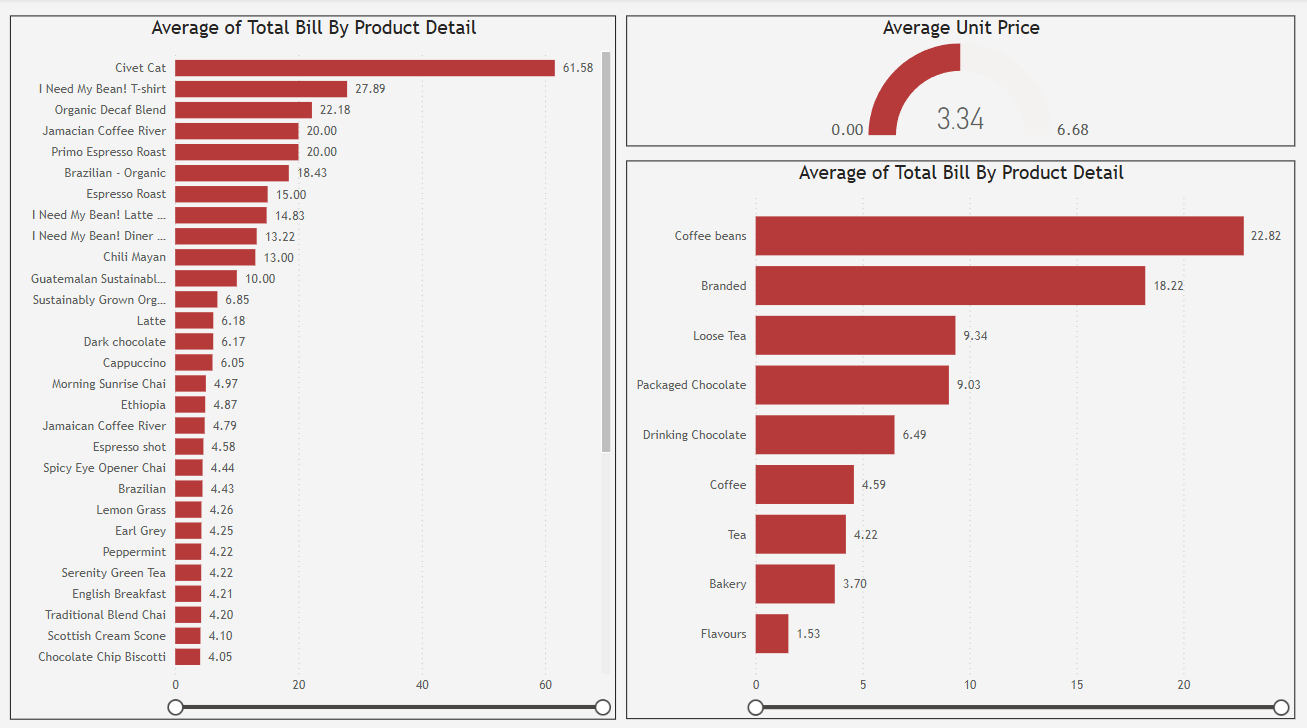

What the dashboard file says about the page in this screenshot:
{"tool":"powerbi","page":{"name":"Page 3","canvas":[1280,720],"ordinal":2},"visuals":[{"type":"clusteredBarChart","title":"Average of Total Bill By Product Detail","fields":{"Y":["Avg(Coffee Sales Data.Total_Bill)"],"Category":["Coffee Sales Data.product_detail"]},"box":[9.8,17.1,593.1,688.5],"z":0},{"type":"gauge","title":"Average Unit Price","fields":{"Y":["Avg(Coffee Sales Data.unit_price)"]},"box":[612.6,17.1,654.2,128.4],"z":1},{"type":"clusteredBarChart","title":"Average of Total Bill By Product Detail","fields":{"Y":["Avg(Coffee Sales Data.Total_Bill)"],"Category":["Coffee Sales Data.product_category"]},"box":[612.6,159,654.2,546.6],"z":2}]}

Visuals, with their boxes in screenshot pixels (x1, y1, x2, y2), scaled from the page's 1280x720 canvas onto the 1307x728 screenshot:
"Average of Total Bill By Product Detail" clusteredBarChart: bbox(10, 17, 616, 713)
"Average Unit Price" gauge: bbox(626, 17, 1294, 147)
"Average of Total Bill By Product Detail" clusteredBarChart: bbox(626, 161, 1294, 713)
